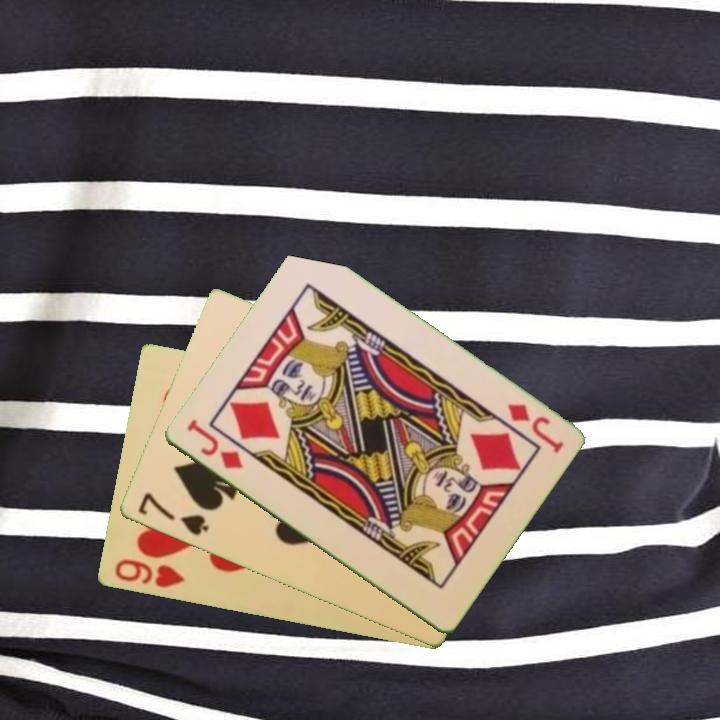7s: (134, 489, 211, 539)
9h: (110, 556, 188, 591)
Jd: (182, 415, 246, 473), (503, 400, 567, 457)
